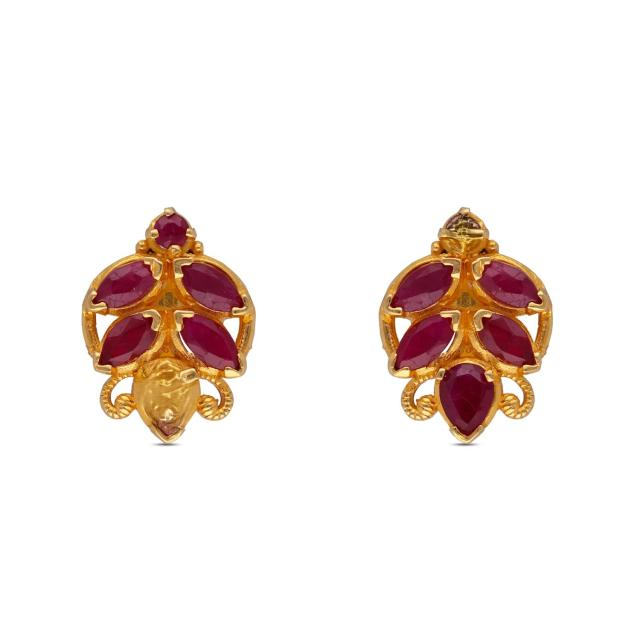missing gem: (142, 364, 189, 435), (446, 215, 483, 251)
